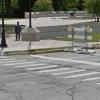Crosswalk: (2, 49, 93, 92)
